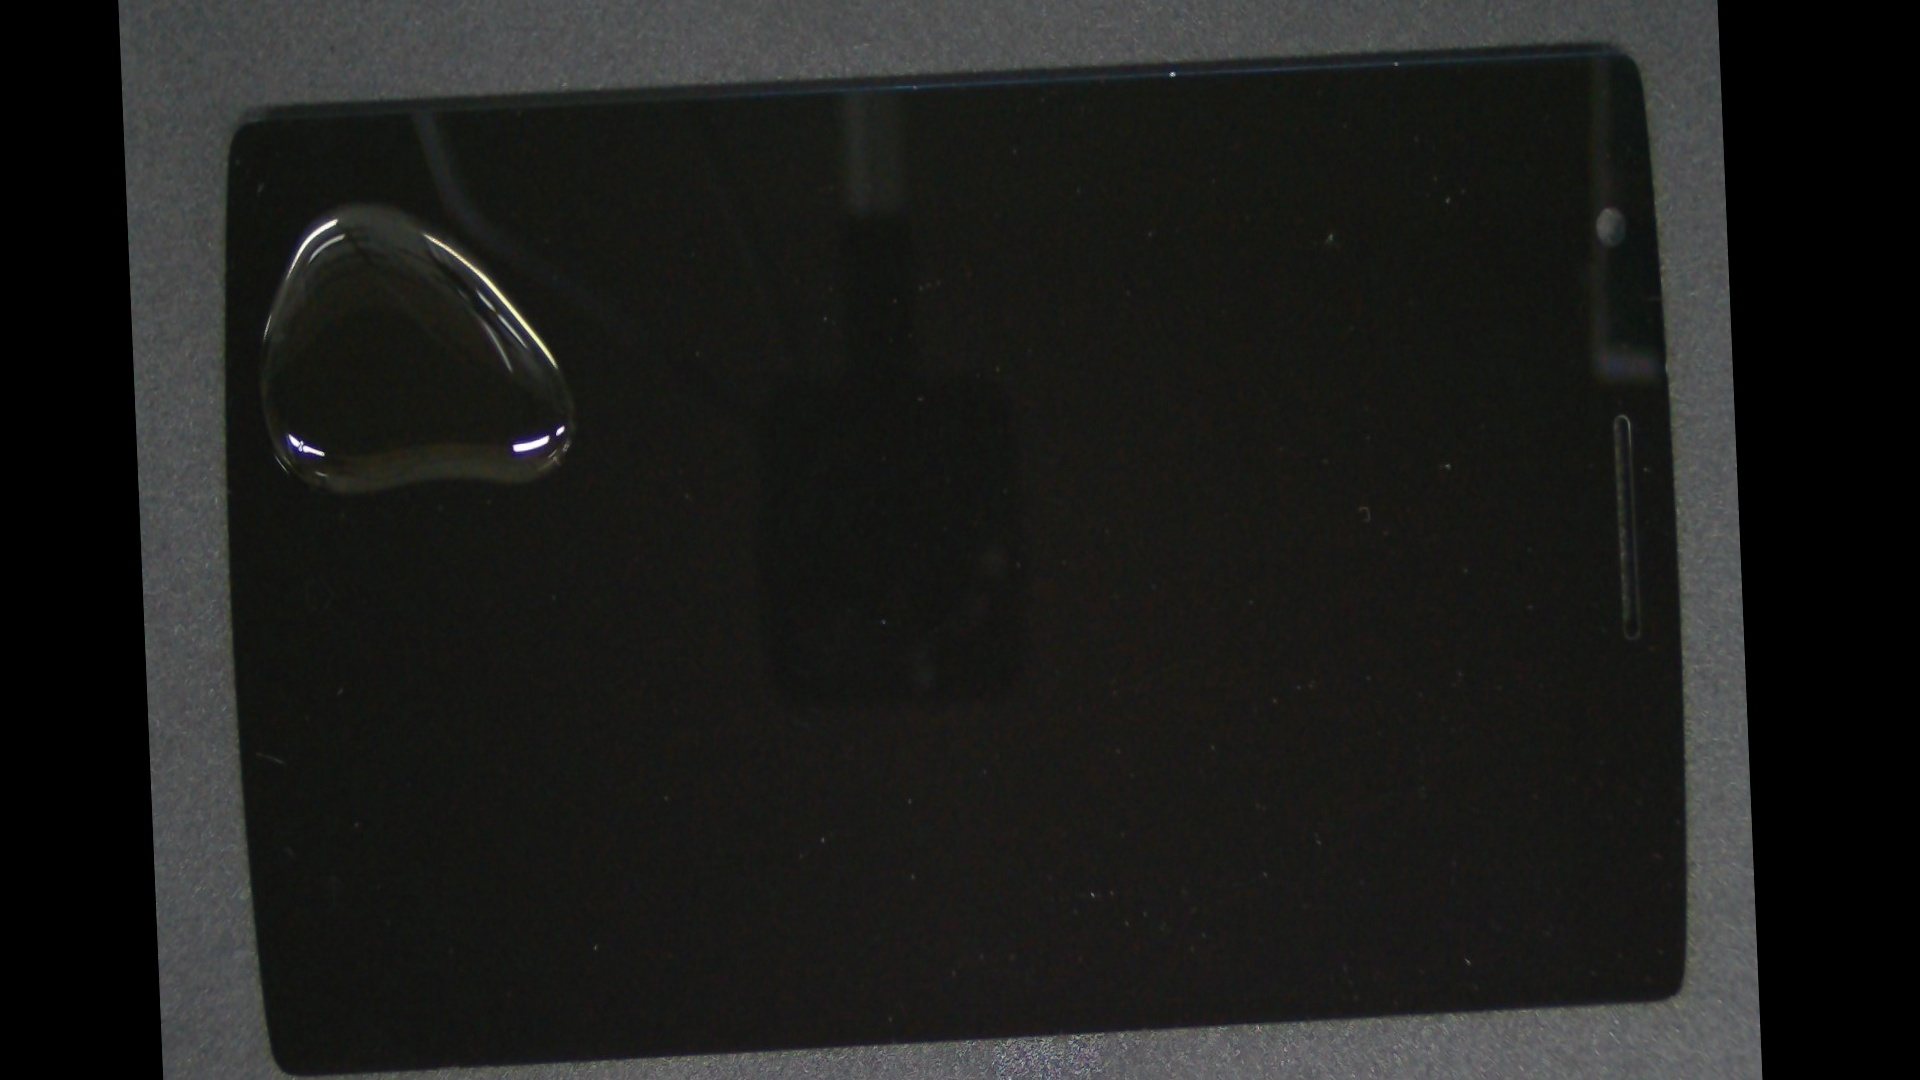oil: (240, 86, 481, 318)
